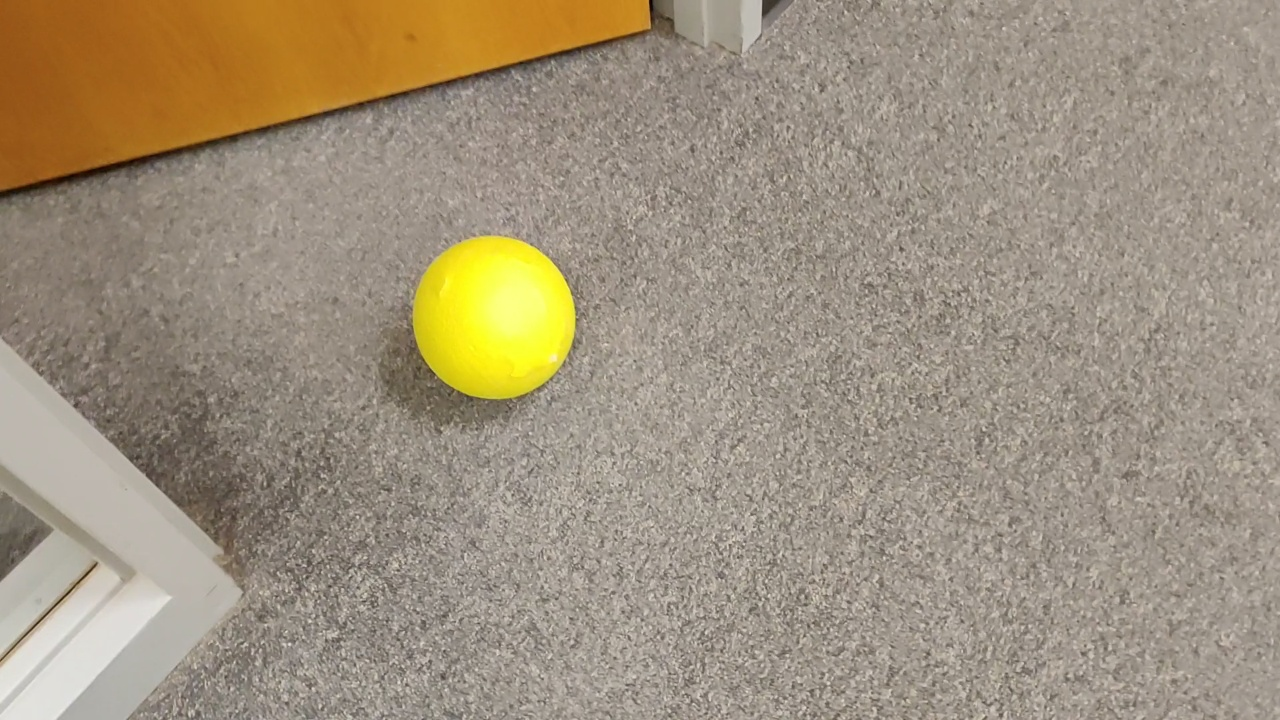Ball: (406, 226, 581, 406)
